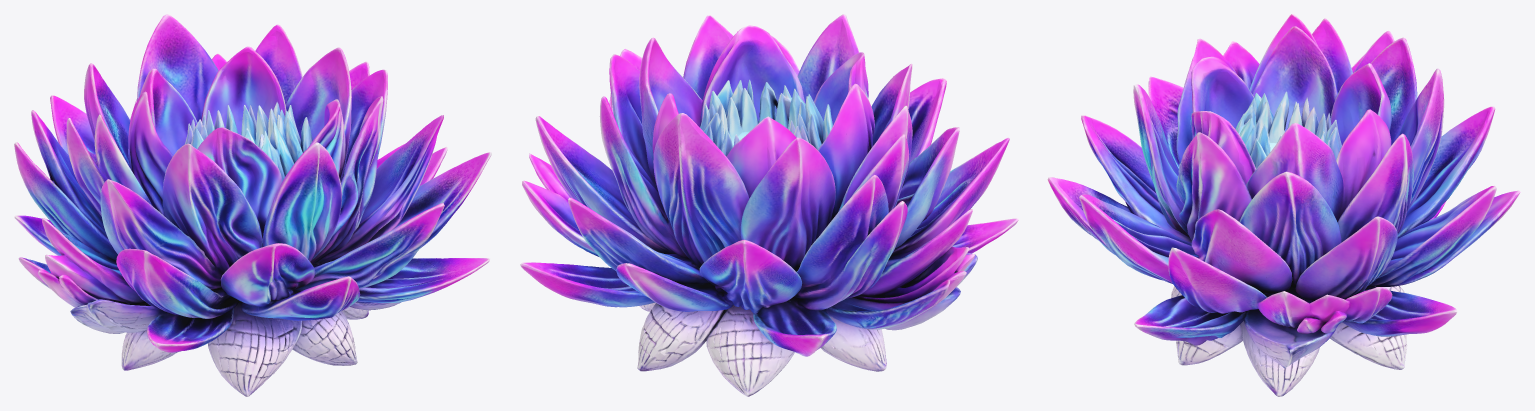
The model's file is lotus-shaded.glb.
3 views of the same model, side by side, from view 1: azimuth 30°, elevation 25°; view 2: azimuth 150°, elevation 25°; view 3: azimuth 270°, elevation 25° (orthographic). The views are drawn at different scales.
Parts seen in each view (by area): view 1: model; view 2: model; view 3: model.
Part boxes in pixels (<box>): model: <box>14,14,491,396</box>; model: <box>520,14,1018,396</box>; model: <box>1047,14,1520,396</box>.
Bounding box in the file's own units: 1.86 × 1.21 × 1.9.
Materials: 1 (1 with a texture image).
